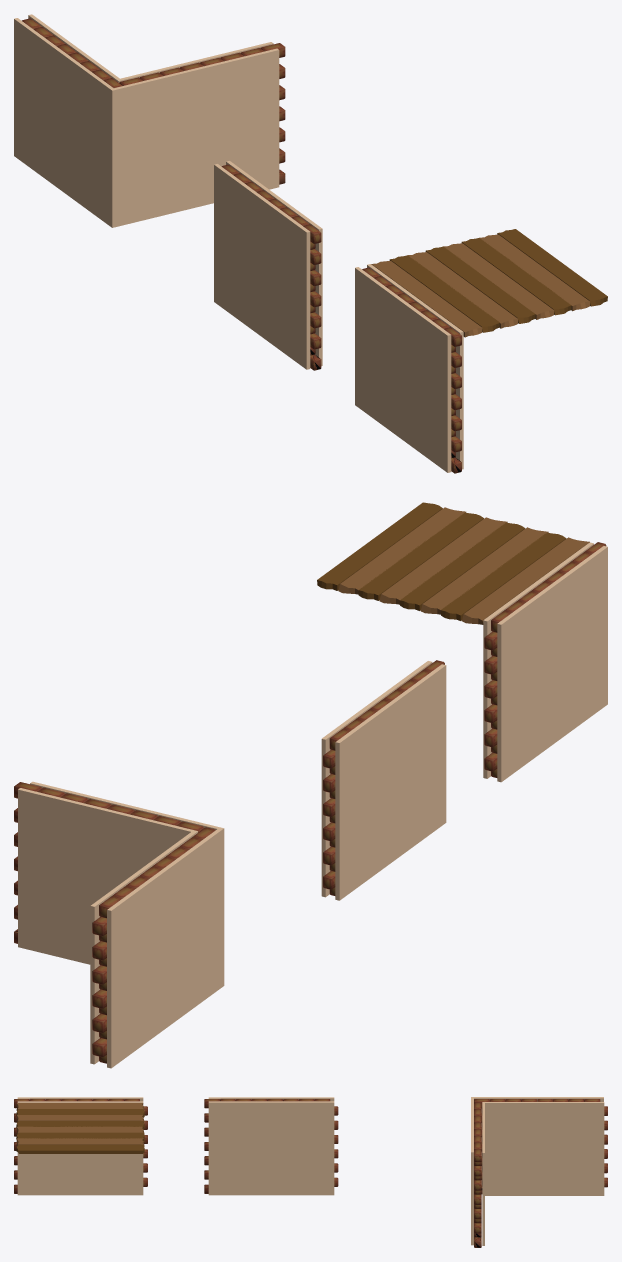
Rendered from Brick_Buildings.fbx.
3 renders of one model, top to bottom at view 1: azimuth 30°, elevation 25°; view 2: azimuth 150°, elevation 25°; view 3: azimuth 270°, elevation 25°, orthographic. The views are drawn at different scales.
Visible parts, largest first — view 1: wall_corner_outer, wall_straight, wall.002, board, board.002, board.001, board.007, board.005, board.004, board.006, board.003, wall.003 (+2 smaller); view 2: wall_corner_outer, wall_corner_inner, wall_straight, wall.002, board, board.002, board.005, board.007, board.001, board.004, board.006, board.003 (+2 smaller); view 3: wall.001, wall_corner_inner, wall.003, board, board.006, board.007, board.004, board.003, board.001, board.002, board.005, wall_corner_outer (+2 smaller).
Part boxes in pixels (x1,y1,x2,y2): wall_corner_outer: (14, 18, 279, 227); wall_straight: (214, 164, 310, 369); wall.002: (355, 267, 451, 472); board: (497, 229, 607, 306); board.002: (389, 255, 499, 332); board.001: (371, 261, 482, 337); board.007: (461, 238, 571, 315); board.005: (425, 246, 535, 323); board.004: (443, 243, 553, 319); board.006: (479, 234, 589, 311); board.003: (408, 252, 517, 328); wall.003: (367, 264, 463, 469); wall_corner_outer: (30, 781, 224, 1068); wall_corner_inner: (18, 788, 197, 1064); wall_straight: (335, 664, 446, 900); wall.002: (497, 546, 607, 782); board: (317, 502, 442, 590); board.002: (440, 532, 566, 620); board.005: (399, 522, 525, 610); board.007: (358, 512, 483, 600); board.001: (462, 537, 589, 624); board.004: (379, 517, 507, 604); board.006: (338, 507, 466, 594); board.003: (420, 527, 548, 614); wall.001: (208, 1101, 334, 1195); wall_corner_inner: (482, 1102, 604, 1245); wall.003: (17, 1101, 143, 1195); board: (16, 1144, 144, 1153); board.006: (16, 1138, 144, 1146); board.007: (16, 1132, 144, 1141); board.004: (16, 1126, 144, 1134); board.003: (16, 1114, 144, 1122); board.001: (16, 1103, 144, 1110); board.002: (16, 1109, 144, 1117); board.005: (16, 1121, 144, 1129); wall_corner_outer: (471, 1097, 603, 1245).
Size of the model in its own units: 3.49 by 15.09 by 2.61.
